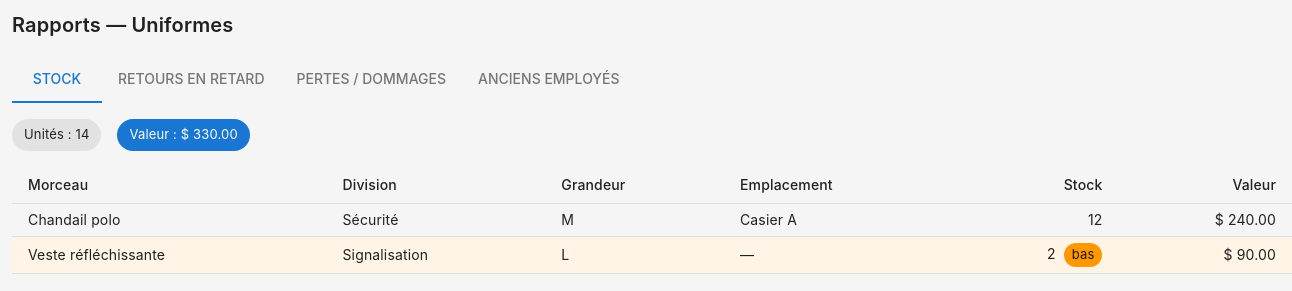
Test case: UniformReportsPage › bascule sur l'onglet « Pertes / dommages » et affiche totaux + lignes
The image size is (1292, 291).
Expected: the text "Chandail polo" is shown, [12, 203, 326, 236]
Click the tab "Pertes / dommages" at [371, 79], box [280, 55, 462, 103]
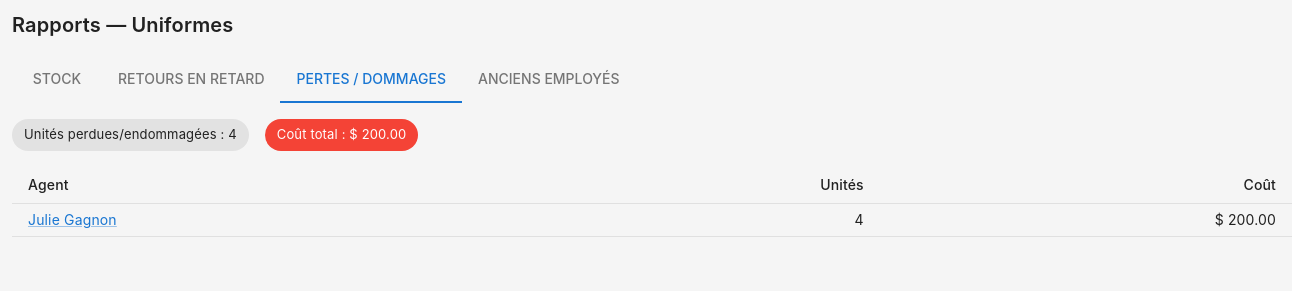
Result: the link "Julie Gagnon" is shown at [28, 211, 117, 228]
Result: the text "Unités perdues/endommagées : 4" is shown at [12, 125, 249, 144]
Result: the text "Coût total : $ 200.00" is shown at [277, 126, 406, 142]
